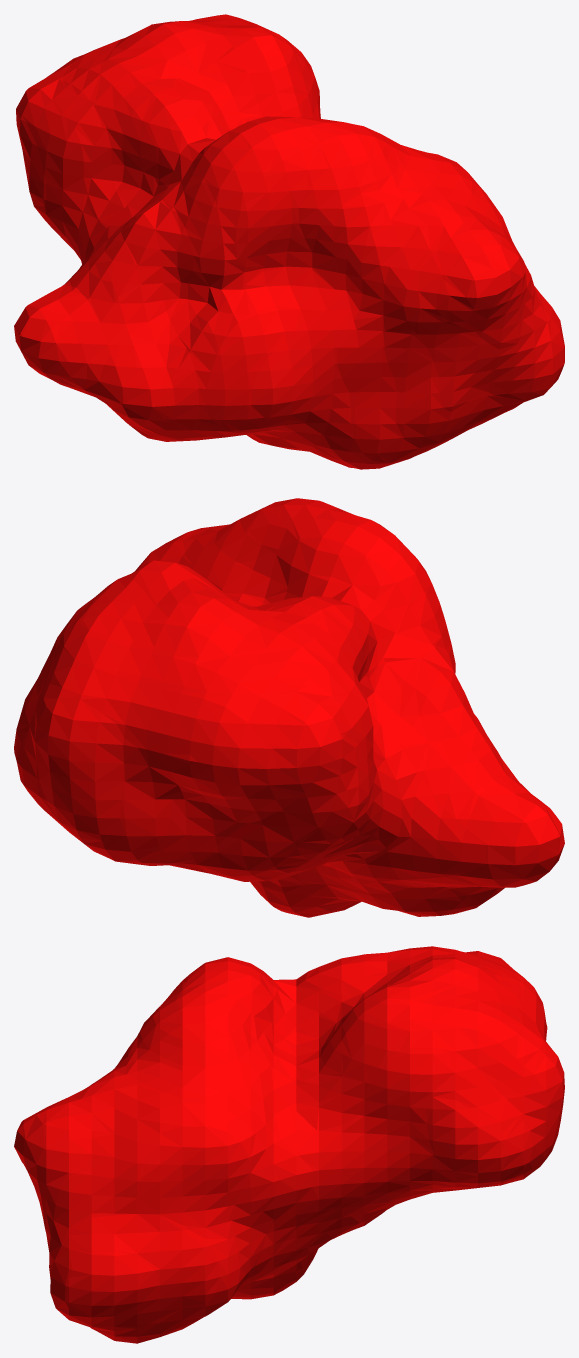
File: moaE_coarse.dae
3 views of the same model, one above another, from view 1: azimuth 30°, elevation 25°; view 2: azimuth 150°, elevation 25°; view 3: azimuth 270°, elevation 25° (orthographic). The views are drawn at different scales.
Visible parts, largest first — view 1: moaE; view 2: moaE; view 3: moaE.
Part boxes in pixels (x1,y1,x2,y2): moaE: (14, 14, 564, 469); moaE: (14, 498, 564, 917); moaE: (14, 946, 564, 1343).
Bounding box in the file's own units: 56.51 × 42.49 × 61.67.
